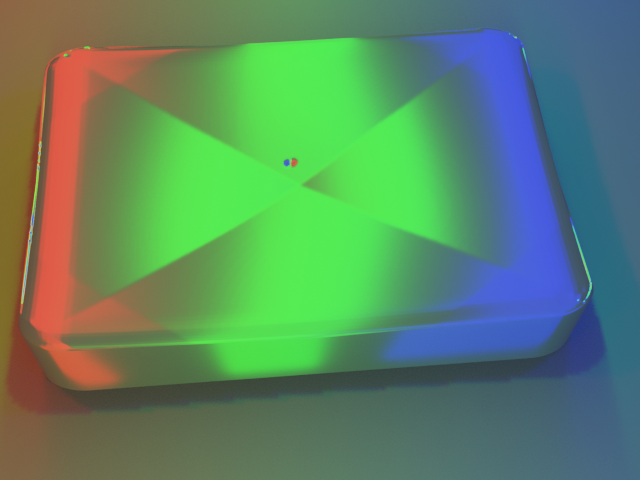dent: (270, 138, 309, 172)
smash: (0, 0, 639, 479)
